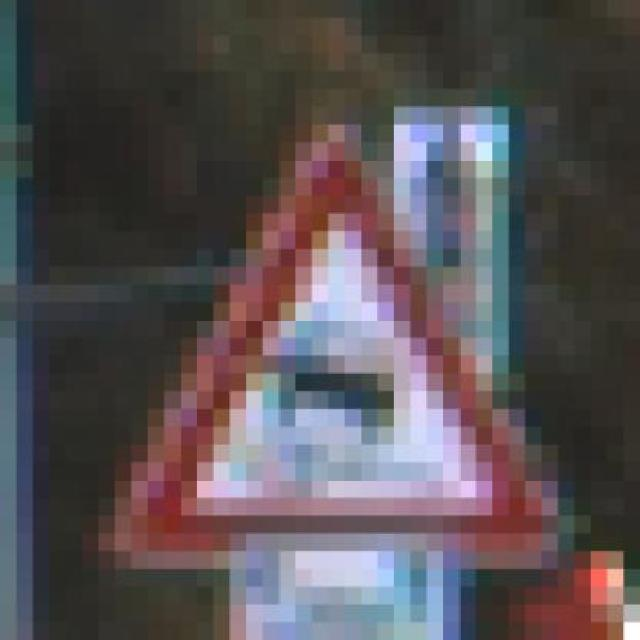Slippery Road Ahead: (82, 106, 575, 605)
